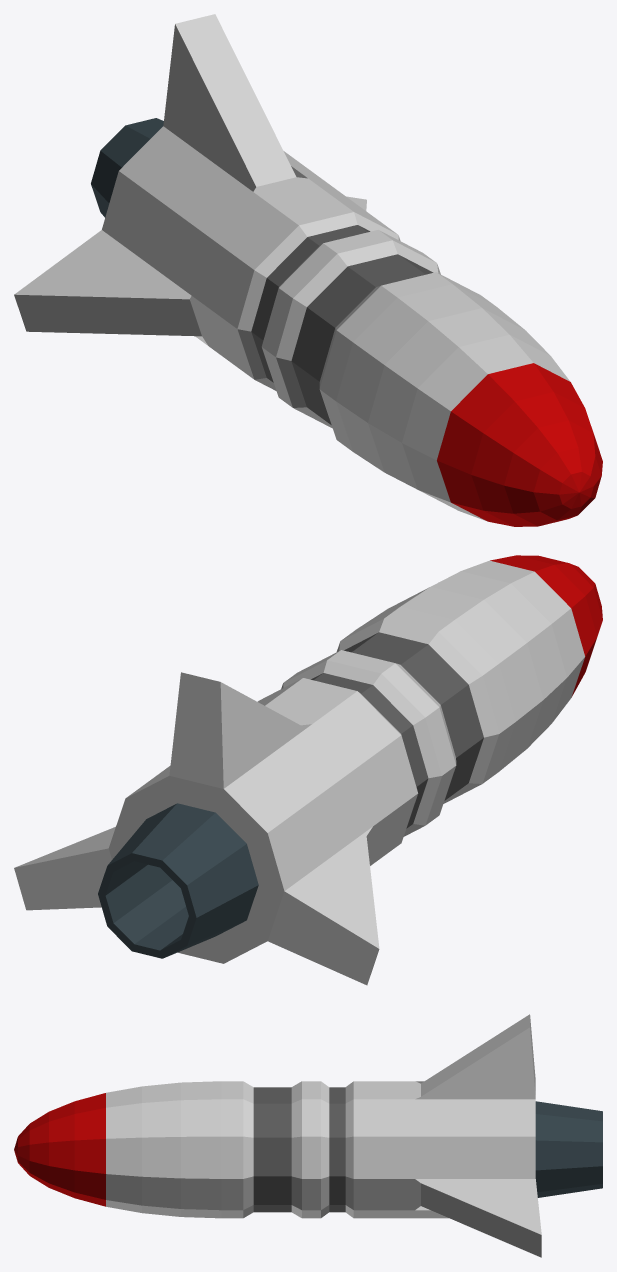
The model's file is rocket.dae.
3 renders of one model, top to bottom at view 1: azimuth 30°, elevation 25°; view 2: azimuth 150°, elevation 25°; view 3: azimuth 270°, elevation 25°, orthographic. The views are drawn at different scales.
Parts seen in each view (by area): view 1: Oil_Tank; view 2: Oil_Tank; view 3: Oil_Tank.
Boxes of the visible parts, x1,y1,x2,y2 form: Oil_Tank: (14, 14, 602, 526); Oil_Tank: (14, 555, 602, 985); Oil_Tank: (14, 1014, 602, 1257).
Size of the model in its own units: 1462 by 1085 by 3069.
